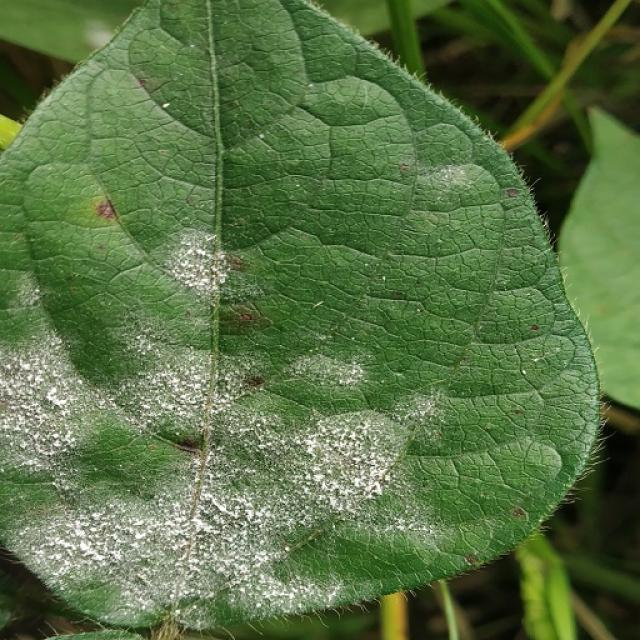Blackgram: (0, 0, 598, 629)
Powdery_Mildew: (242, 401, 408, 523), (1, 326, 112, 487), (104, 315, 218, 440), (30, 489, 152, 580), (217, 535, 321, 613), (183, 450, 275, 533), (152, 229, 245, 304), (307, 355, 369, 389), (398, 392, 442, 431), (428, 163, 472, 189), (14, 275, 43, 309), (188, 511, 220, 538), (45, 386, 72, 409), (313, 472, 325, 483), (258, 133, 265, 139), (308, 83, 314, 88), (382, 275, 386, 282)
